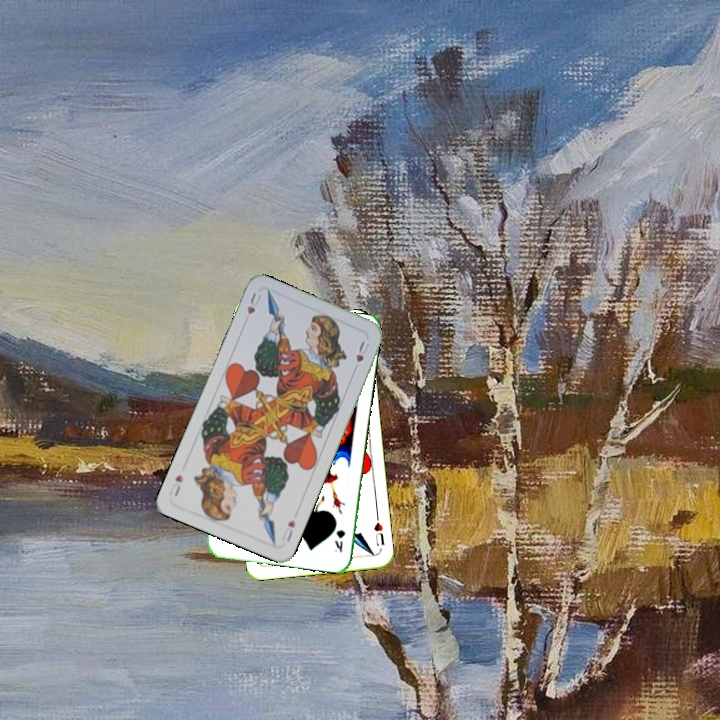GK: (330, 524, 348, 555)
HU: (243, 288, 264, 317), (278, 515, 298, 544), (370, 518, 387, 548)
